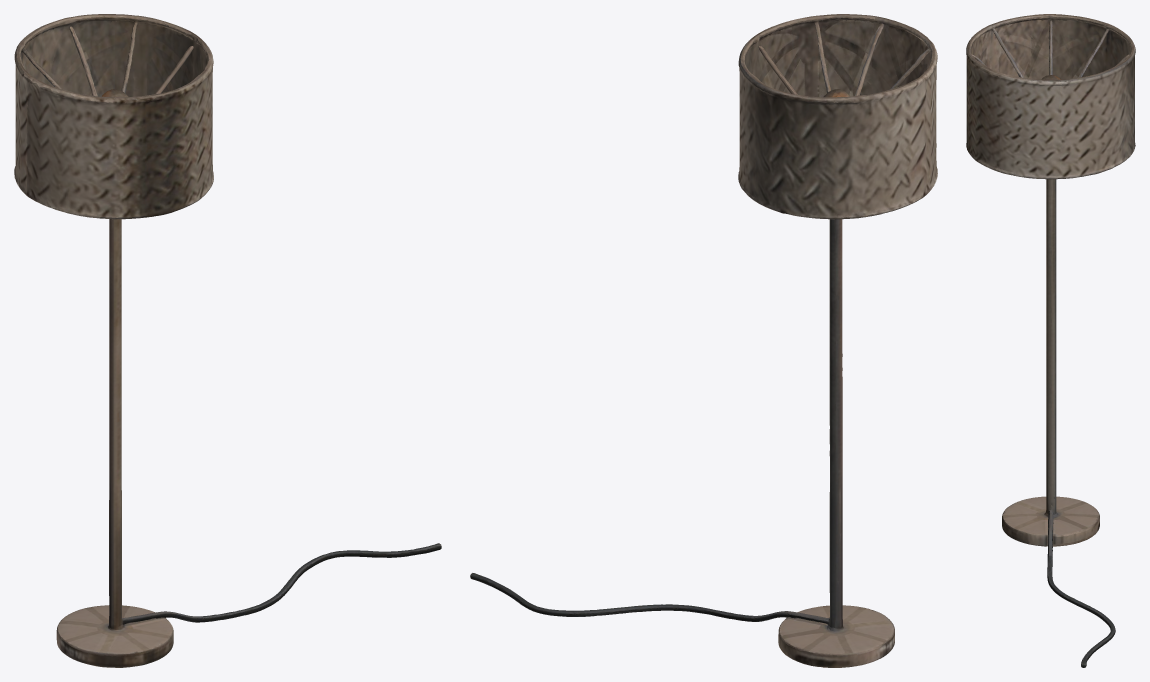
Rendered from L_FLOOR_LAMP.japandi.glb.
3 views of the same model, side by side, from view 1: azimuth 30°, elevation 25°; view 2: azimuth 150°, elevation 25°; view 3: azimuth 270°, elevation 25° (orthographic). The views are drawn at different scales.
Parts seen in each view (by area): view 1: geometry_0; view 2: geometry_0; view 3: geometry_0.
Part boxes in pixels (box(x1,y1,x2,y2)): geometry_0: box(14, 14, 441, 667); geometry_0: box(470, 14, 937, 667); geometry_0: box(966, 14, 1135, 667).
Bounding box in the file's own units: 1.11 × 1.45 × 0.4596.
1 material, 1 textured.
